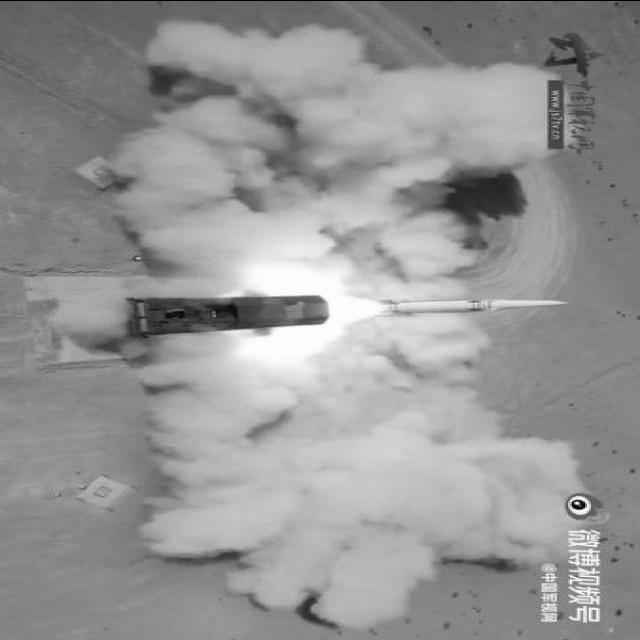Missile: (375, 291, 578, 318)
